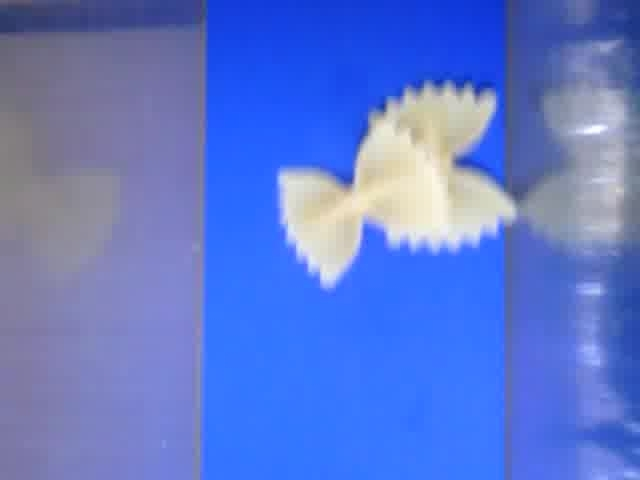farfalle: (278, 119, 449, 288), (367, 80, 515, 254)
